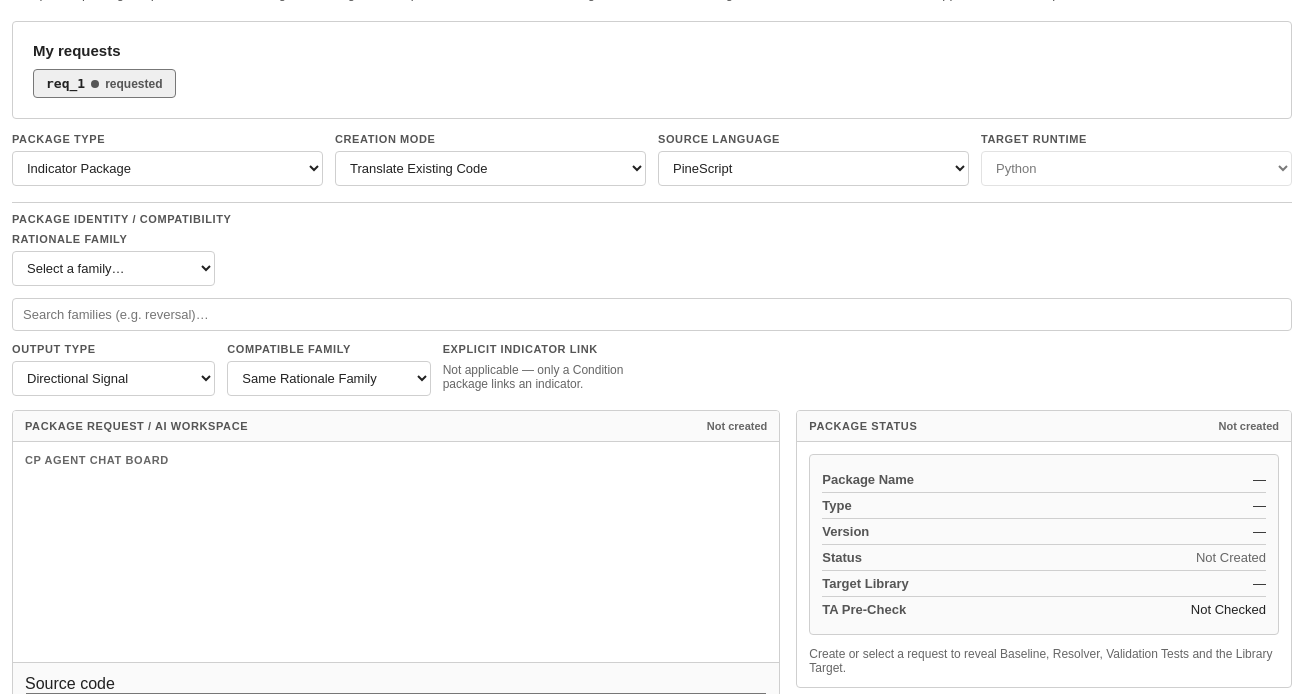
Test case: Create Package page › keeps Approve disabled for a draft that has not passed validation (F-12)
Check: the text "req_1" is shown, box [46, 76, 85, 91]
Step 1. Click the button "req_1 requested" → (104, 84), box [33, 69, 176, 98]
(page scrolled)
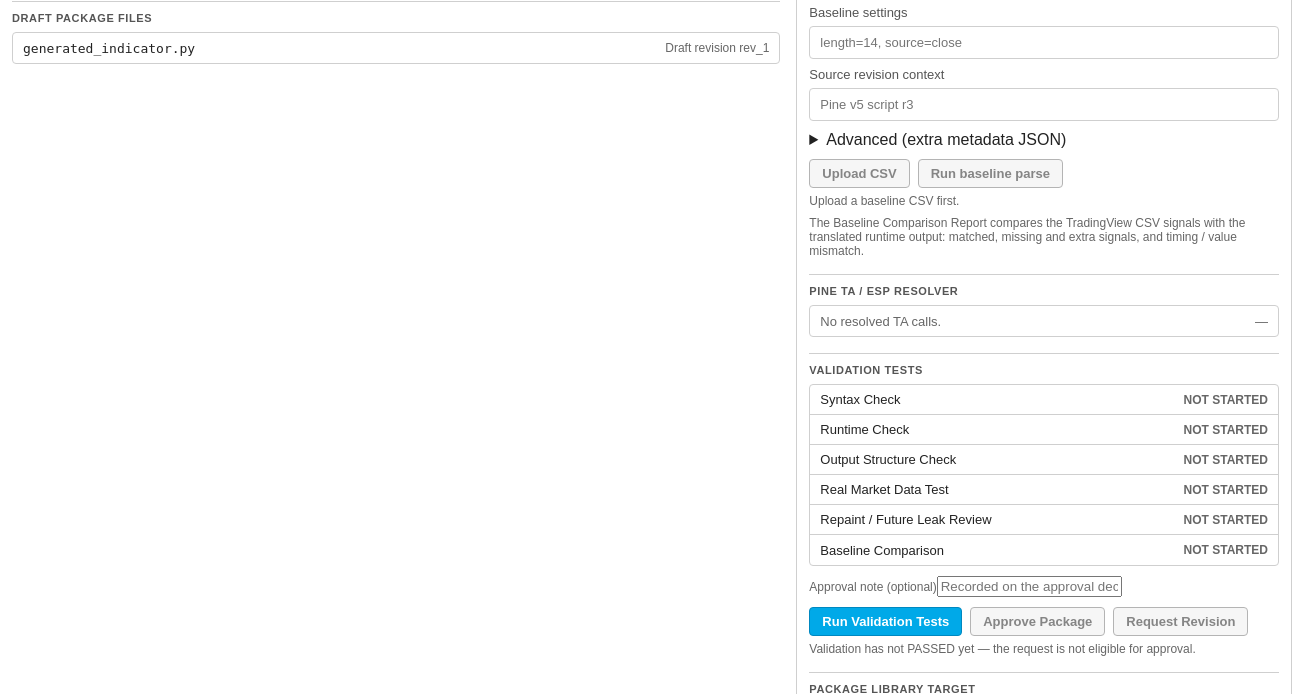
Check: the button "Approve Package" is disabled, box [970, 607, 1105, 636]
Check: the button "Run Validation Tests" is enabled, box [809, 607, 962, 636]
Check: the text "Validation has not PASSED yet — the request is not eligible for approval." is shown, box [809, 642, 1196, 656]
